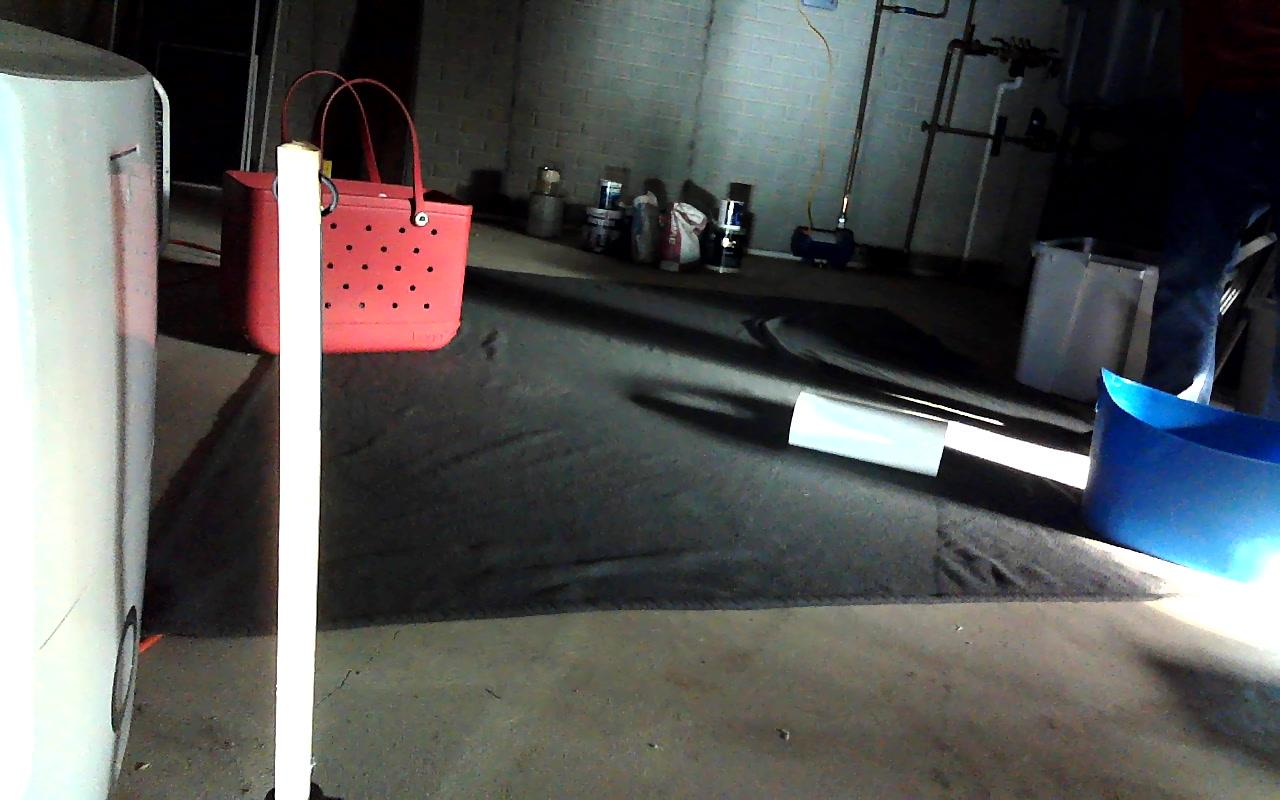coral: (790, 392, 948, 478)
